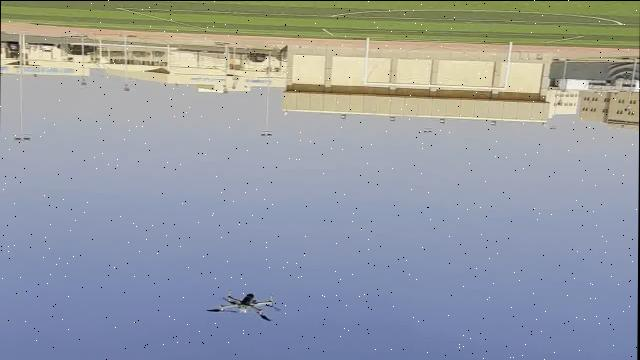drone: (205, 286, 281, 324)
